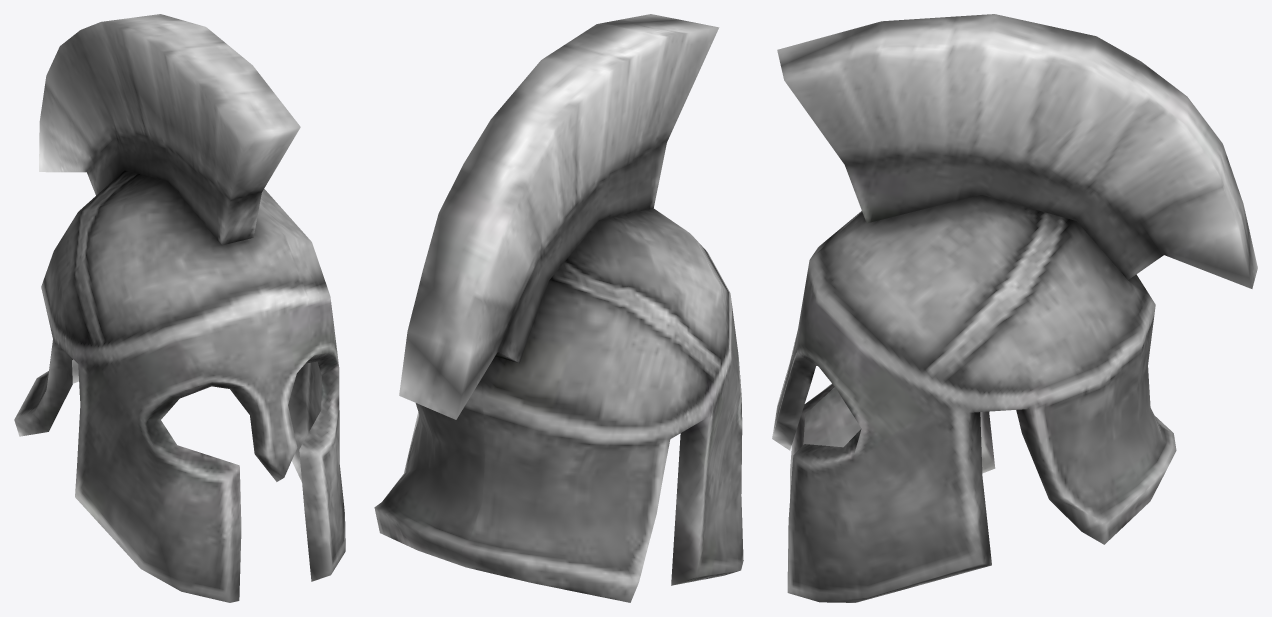
The model's file is helmet-heavyinfantry.glb.
3 views of the same model, side by side, from view 1: azimuth 30°, elevation 25°; view 2: azimuth 150°, elevation 25°; view 3: azimuth 270°, elevation 25° (orthographic). The views are drawn at different scales.
Size of the model in its own units: 0.2352 by 0.4699 by 0.3828.
Materials: 1 (1 with a texture image).
